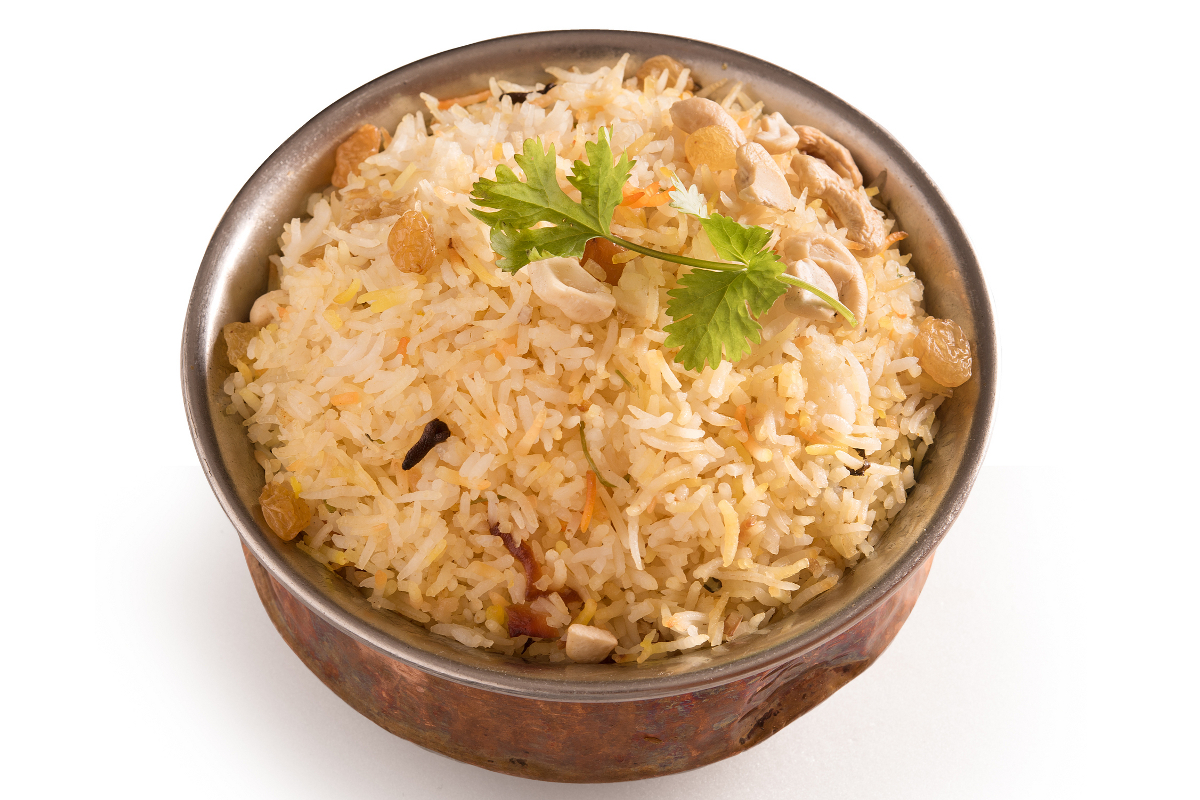plain rice: (313, 113, 901, 579)
